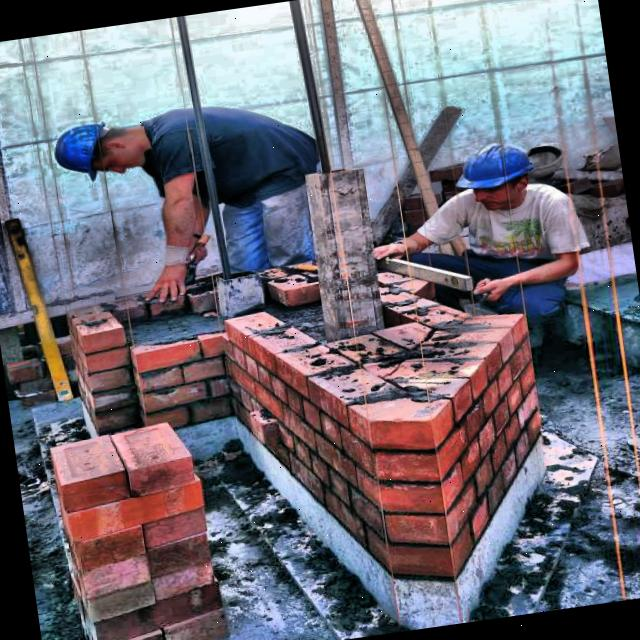helmet: (51, 110, 156, 186), (459, 137, 547, 215)
